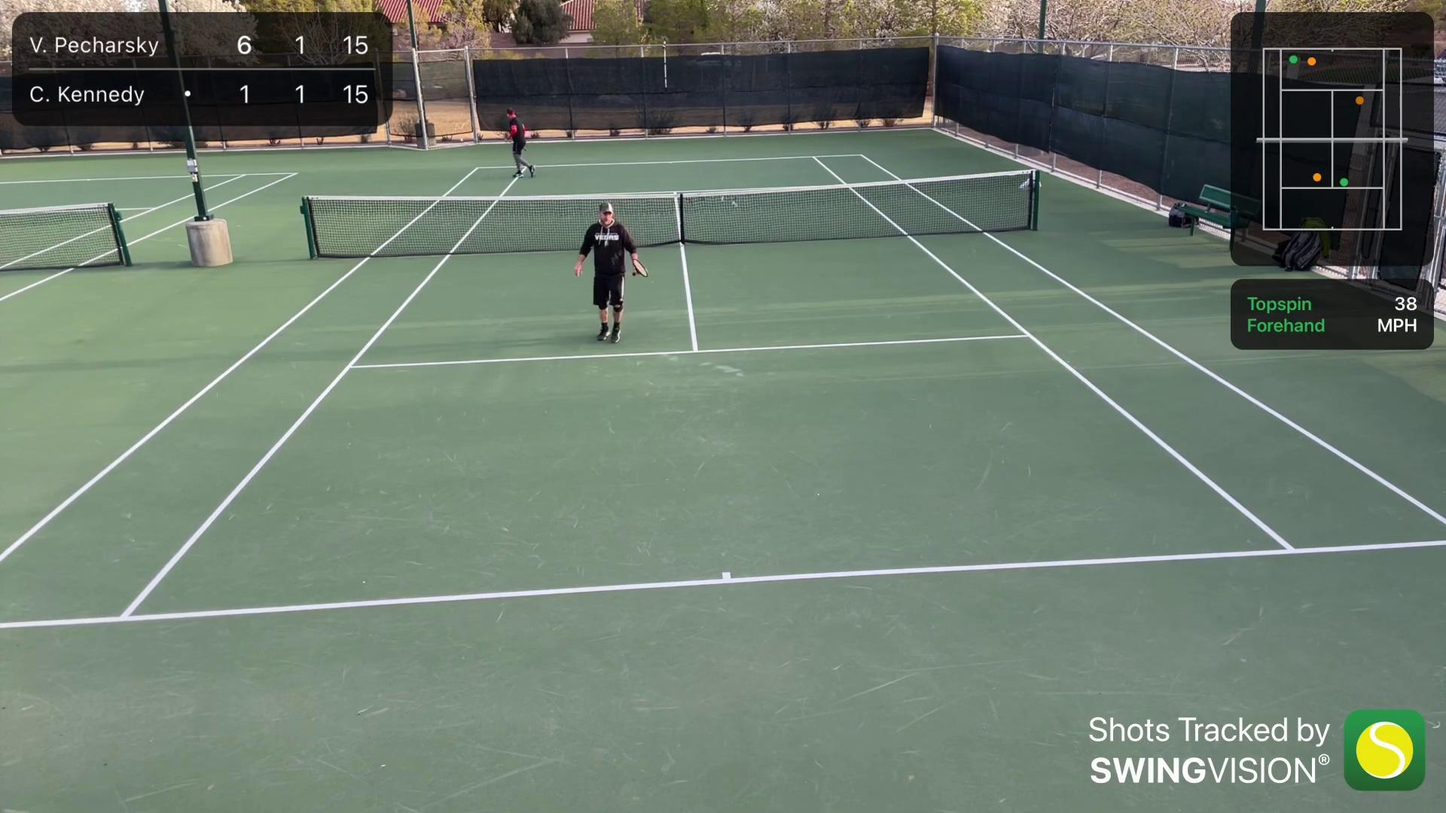ball: (459, 138, 463, 141)
